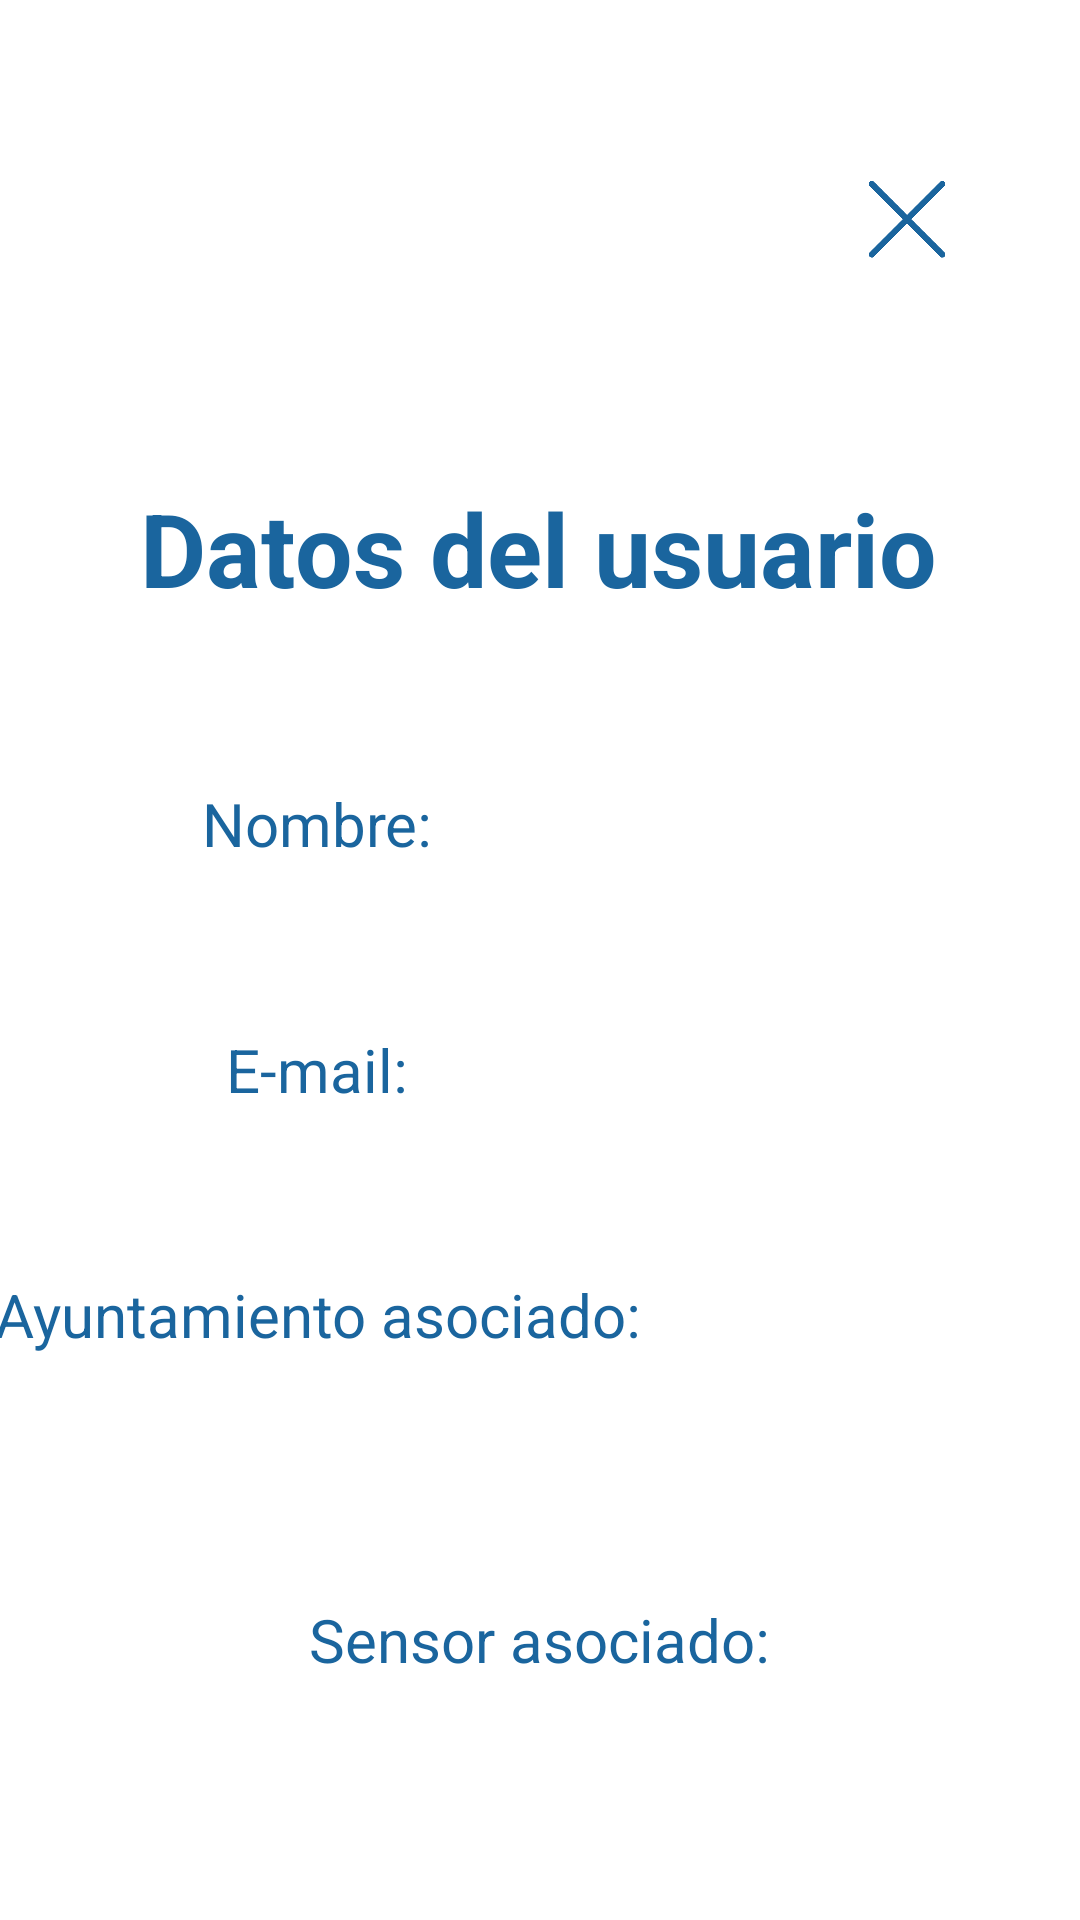

Icon click points for this 1080px×1920px phone screenshot, format point (x, y):
cross: point (907, 219)
